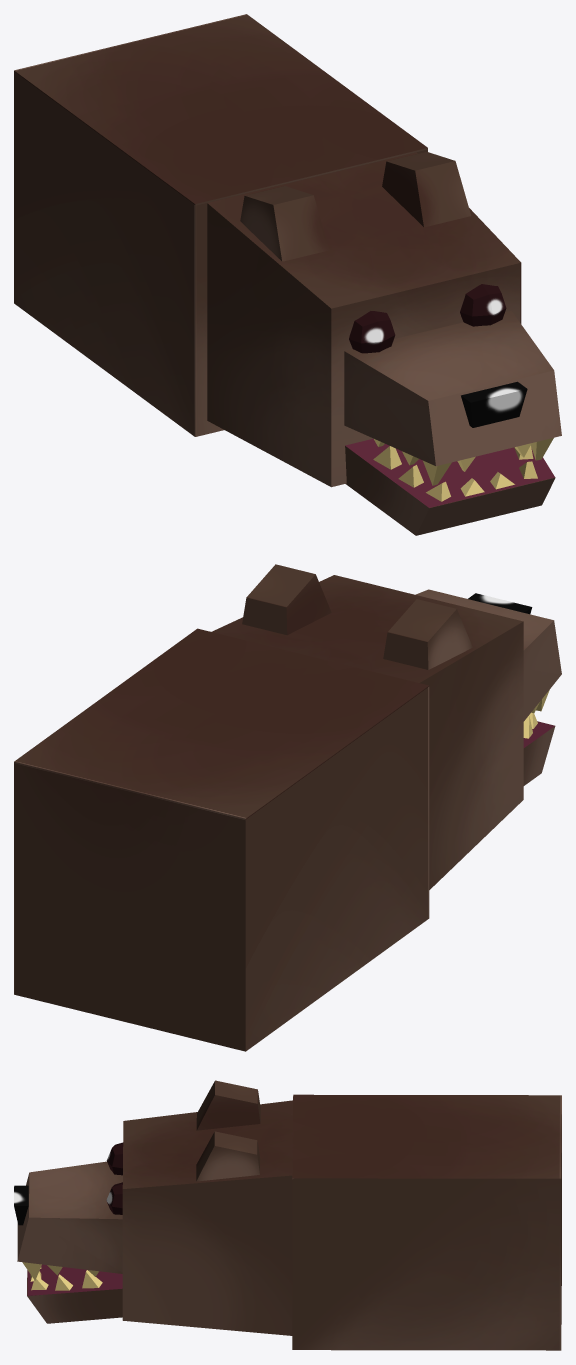
Rendered from bear.fbx.
The picture shows the model from 3 angles, top to bottom: view 1: azimuth 30°, elevation 25°; view 2: azimuth 150°, elevation 25°; view 3: azimuth 270°, elevation 25°; orthographic projection. The views are drawn at different scales.
Parts seen in each view (by area): view 1: neck, head, mouth top, mouth bottom, ears, eyes, nose, teeth top2; view 2: neck, head, ears, mouth top, mouth bottom; view 3: neck, head, mouth top, ears, mouth bottom, eyes, nose.
Part boxes in pixels (x1,y1,x2,y2): neck: (14, 14, 427, 436); head: (207, 152, 521, 487); mouth top: (344, 310, 561, 466); mouth bottom: (345, 438, 555, 535); ears: (240, 151, 471, 261); eyes: (349, 284, 506, 353); nose: (461, 381, 527, 427); teeth top2: (423, 438, 553, 485); neck: (14, 628, 429, 1051); head: (211, 575, 523, 889); ears: (242, 564, 472, 669); mouth top: (415, 589, 561, 721); mouth bottom: (523, 721, 555, 785); neck: (292, 1094, 561, 1350); head: (122, 1100, 292, 1335); mouth top: (17, 1161, 122, 1273); ears: (196, 1080, 260, 1181); mouth bottom: (27, 1264, 122, 1323); eyes: (106, 1142, 123, 1214); nose: (14, 1185, 28, 1225).
Size of the model in its own units: 154 by 166 by 423.
Materials: 8 (7 with a texture image).
